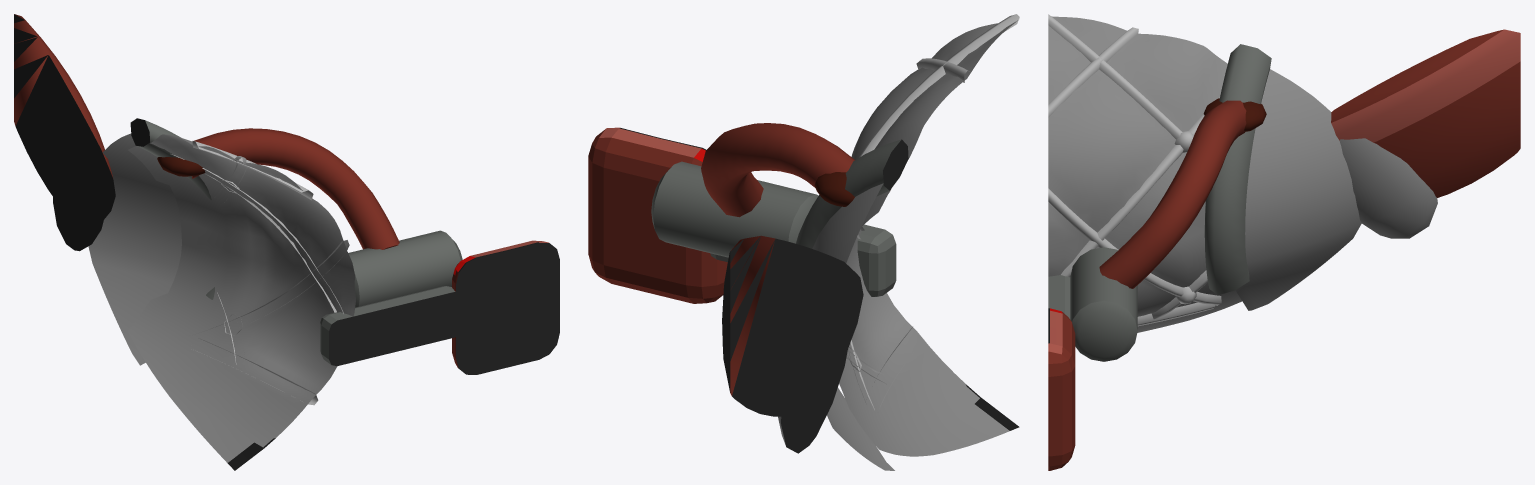
The model's file is zeppelin_53.glb.
3 renders of one model, left to right at view 1: azimuth 30°, elevation 25°; view 2: azimuth 150°, elevation 25°; view 3: azimuth 270°, elevation 25°, orthographic. The views are drawn at different scales.
Parts seen in each view (by area): view 1: envelope.001, gun_mount_r.001, cowl.001, duct.001, gun_hose_r.001, gun_strut_r.001, gun_cap_r.001, duct_boot_r.001, net_ropes.001, cowl_rim.001, gun_hose_collar_r.001; view 2: envelope.001, duct.001, gun_mount_r.001, gun_cap_r.001, gun_hose_r.001, duct_boot_r.001, cowl.001, cowl_rim.001, net_ropes.001, gun_strut_r.001, gun_hose_collar_r.001; view 3: envelope.001, duct.001, cowl.001, gun_hose_r.001, cowl_rim.001, net_ropes.001, duct_boot_r.001, gun_cap_r.001, gun_mount_r.001, gun_strut_r.001, net_load.001, gun_hose_collar_r.001 (+1 smaller).
Boxes of the visible parts, <box> form: envelope.001: <box>128,134,355,470</box>; gun_mount_r.001: <box>452,240,559,374</box>; cowl.001: <box>88,133,181,365</box>; duct.001: <box>14,14,115,224</box>; gun_hose_r.001: <box>191,128,399,249</box>; gun_strut_r.001: <box>320,286,462,366</box>; gun_cap_r.001: <box>348,230,462,307</box>; duct_boot_r.001: <box>53,136,108,251</box>; net_ropes.001: <box>171,141,349,364</box>; cowl_rim.001: <box>130,118,214,299</box>; gun_hose_collar_r.001: <box>157,157,205,176</box>; envelope.001: <box>839,20,1019,456</box>; duct.001: <box>722,235,863,416</box>; gun_mount_r.001: <box>588,127,727,303</box>; gun_cap_r.001: <box>651,161,818,257</box>; gun_hose_r.001: <box>701,123,854,217</box>; duct_boot_r.001: <box>778,264,852,453</box>; cowl.001: <box>812,183,894,470</box>; cowl_rim.001: <box>796,139,908,248</box>; net_ropes.001: <box>846,14,1019,410</box>; gun_strut_r.001: <box>710,224,896,296</box>; gun_hose_collar_r.001: <box>814,172,890,206</box>; envelope.001: <box>1048,16,1241,332</box>; duct.001: <box>1331,29,1520,197</box>; cowl.001: <box>1235,69,1361,310</box>; gun_hose_r.001: <box>1099,100,1246,288</box>; cowl_rim.001: <box>1204,44,1271,295</box>; net_ropes.001: <box>1048,14,1221,319</box>; duct_boot_r.001: <box>1339,138,1437,238</box>; gun_cap_r.001: <box>1070,247,1137,361</box>; gun_mount_r.001: <box>1048,308,1075,470</box>; gun_strut_r.001: <box>1048,275,1070,319</box>; net_load.001: <box>1137,302,1215,326</box>; gun_hose_collar_r.001: <box>1203,98,1266,131</box>.
Bounding box in the file's own units: 23.8 × 22 × 28.
